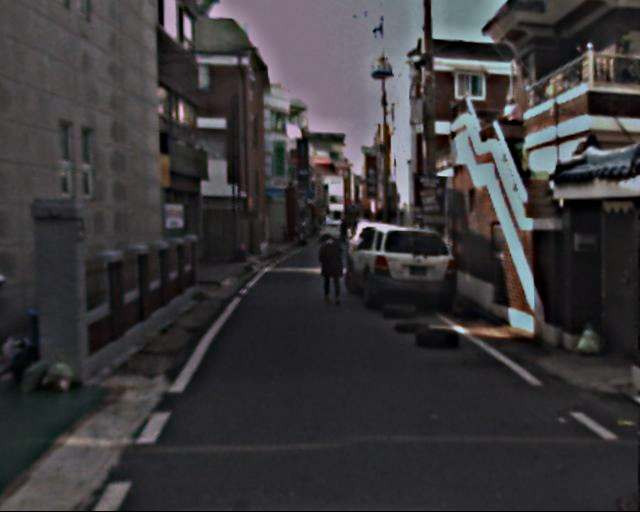person: (315, 233, 347, 310)
